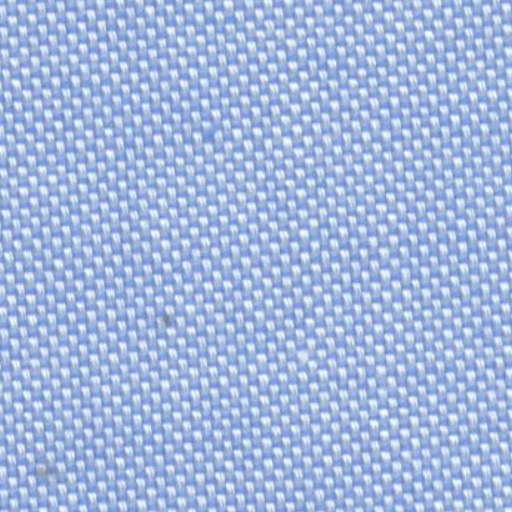WuZi: (24, 448, 72, 490), (152, 302, 186, 334)
